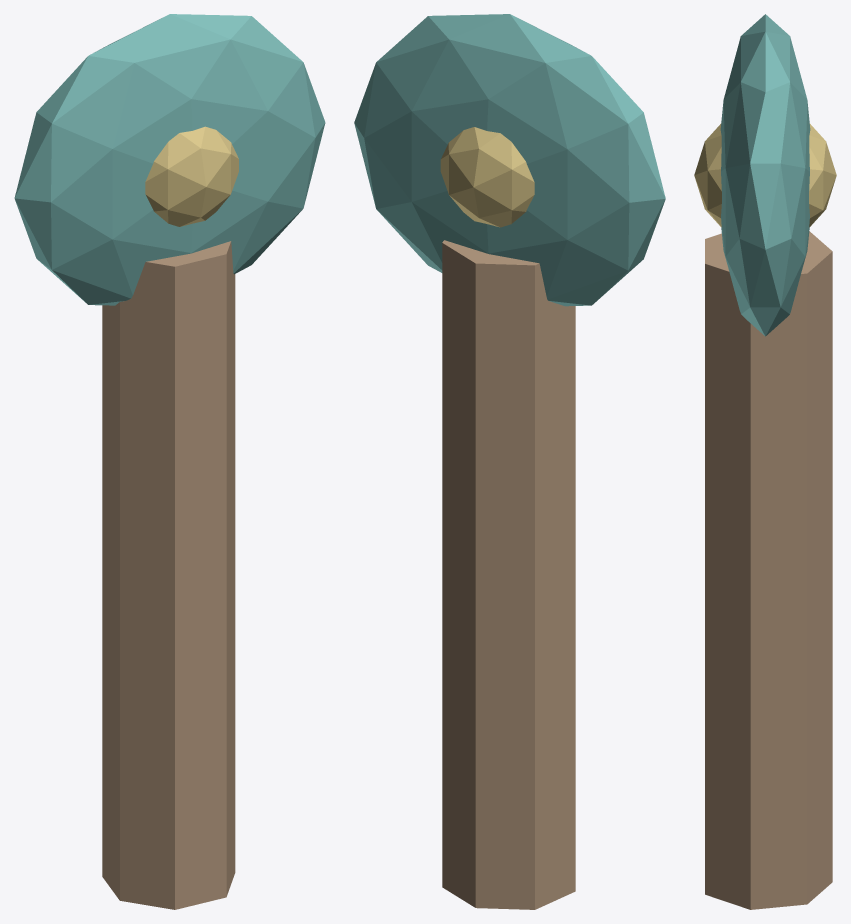
Rendered from explore_marker.glb.
3 renders of one model, left to right at view 1: azimuth 30°, elevation 25°; view 2: azimuth 150°, elevation 25°; view 3: azimuth 270°, elevation 25°, orthographic. The views are drawn at different scales.
Visible parts, largest first — view 1: Post, Badge, Socket_socket; view 2: Post, Badge, Socket_socket; view 3: Post, Badge, Socket_socket.
Part boxes in pixels (bbox=[...]): Post: bbox=[102, 241, 235, 909]; Badge: bbox=[14, 14, 325, 305]; Socket_socket: bbox=[145, 126, 238, 226]; Post: bbox=[442, 240, 575, 909]; Badge: bbox=[354, 14, 665, 306]; Socket_socket: bbox=[440, 127, 534, 227]; Post: bbox=[705, 231, 832, 909]; Badge: bbox=[720, 14, 810, 336]; Socket_socket: bbox=[694, 123, 836, 227].
Size of the model in its own units: 0.42 by 1.12 by 0.17.
